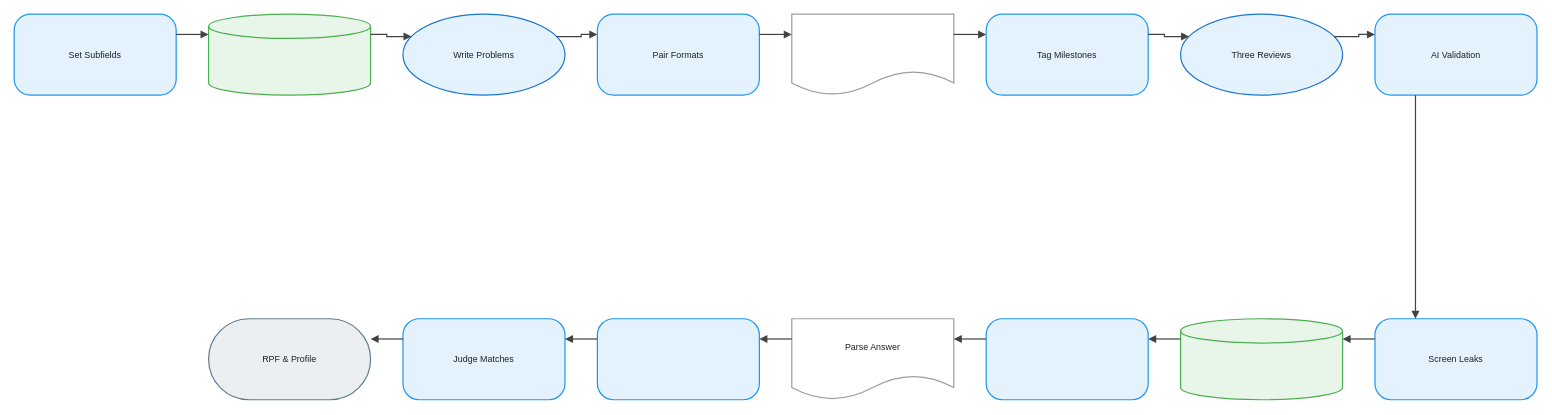
The diagram is 1552 pixels wide and 415 high, and some of its shapes have lost their labels. Each missing label, with the centre of its shape:
Freeze 500: point 1261,359
Gather Sources: point 289,54
Gold Solutions: point 872,54
Run Both Modes: point 1066,359
Score Pass@1: point 678,359
